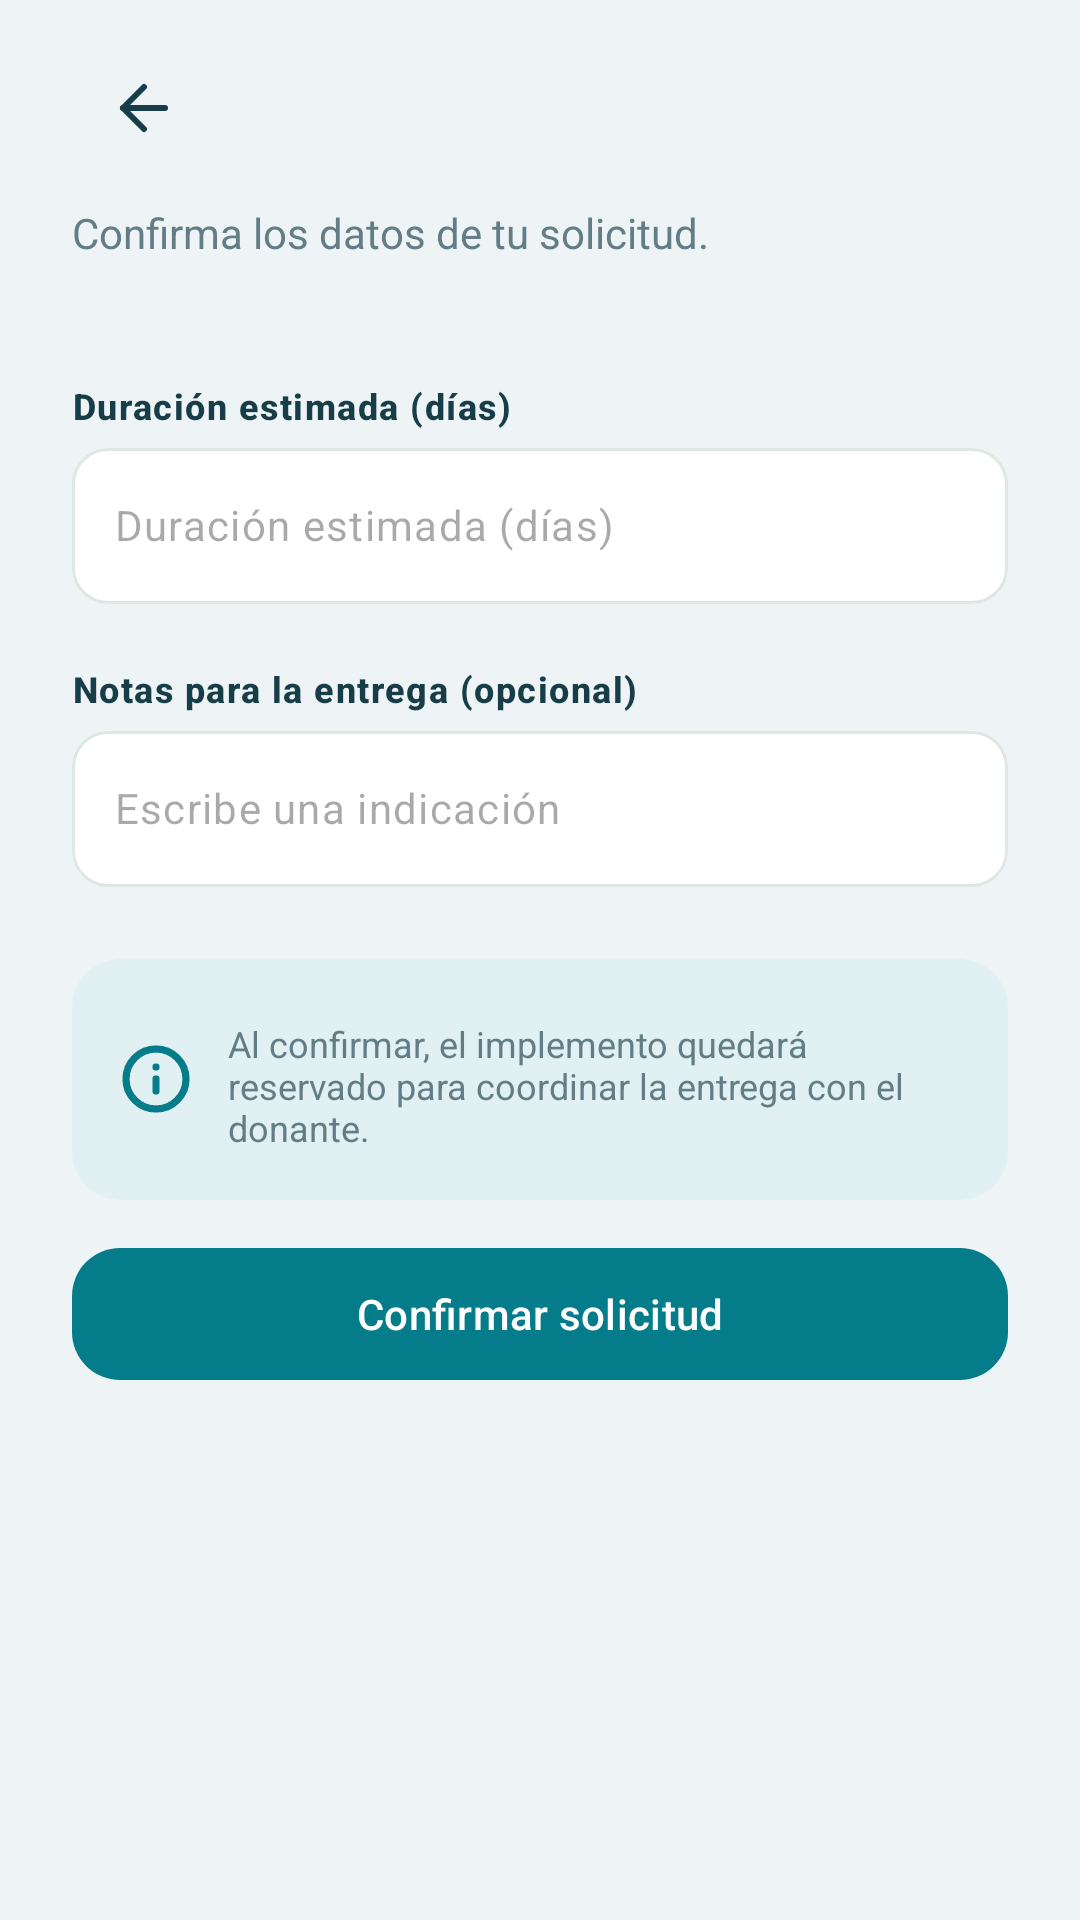

Icons on this 1080*1920 Android screen, each with its box as (x1, y1, x2, y2):
Volver: (120, 84, 168, 132)
